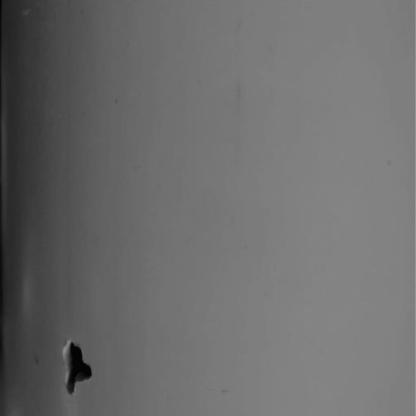kongdong: (57, 333, 105, 402)
